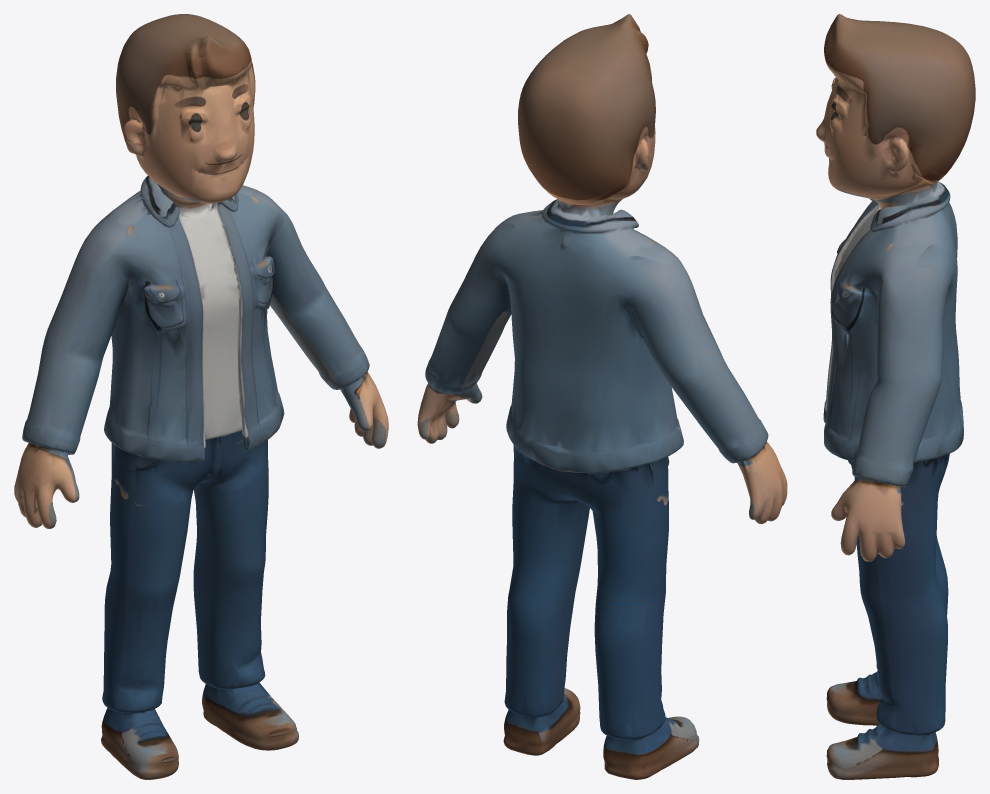
The model's file is customer_b.glb.
The picture shows the model from 3 angles, left to right: view 1: azimuth 30°, elevation 25°; view 2: azimuth 150°, elevation 25°; view 3: azimuth 270°, elevation 25°; orthographic projection.
Visible parts, largest first — view 1: tripo_node_8f5b4493-664a-4d55-bfa6-3289d938f083; view 2: tripo_node_8f5b4493-664a-4d55-bfa6-3289d938f083; view 3: tripo_node_8f5b4493-664a-4d55-bfa6-3289d938f083.
Boxes of the visible parts, x1=… form: tripo_node_8f5b4493-664a-4d55-bfa6-3289d938f083: x1=14, y1=14, x2=388, y2=779; tripo_node_8f5b4493-664a-4d55-bfa6-3289d938f083: x1=417, y1=14, x2=787, y2=779; tripo_node_8f5b4493-664a-4d55-bfa6-3289d938f083: x1=816, y1=14, x2=975, y2=779.
Size of the model in its own units: 0.5127 by 0.9999 by 0.1991.
1 material, 1 textured.
